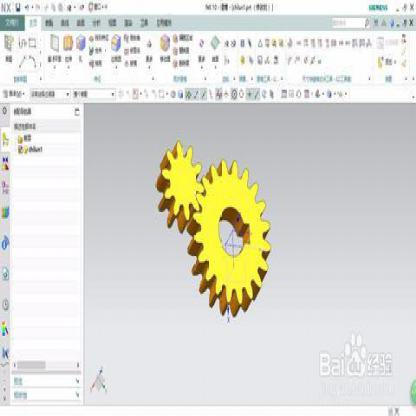FOD: (186, 157, 272, 323), (155, 138, 206, 234)
